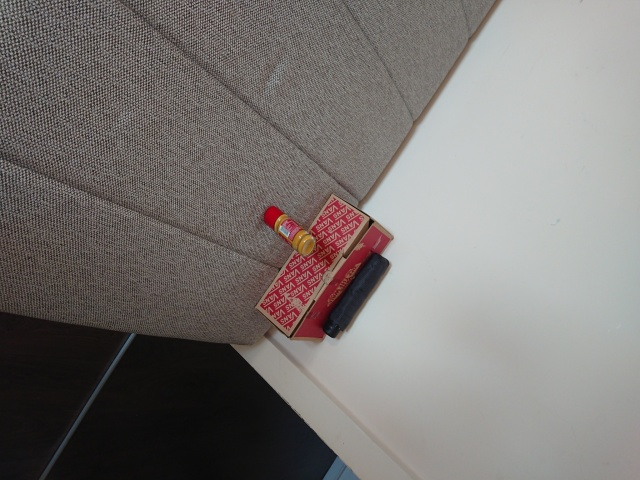Kotanyi Curry Spices Mix 70g: (262, 205, 317, 258)
